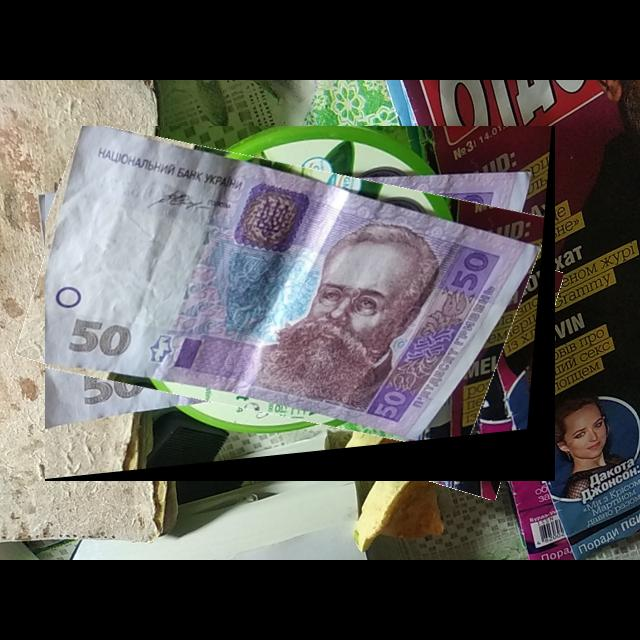50uah: (45, 126, 546, 450)
